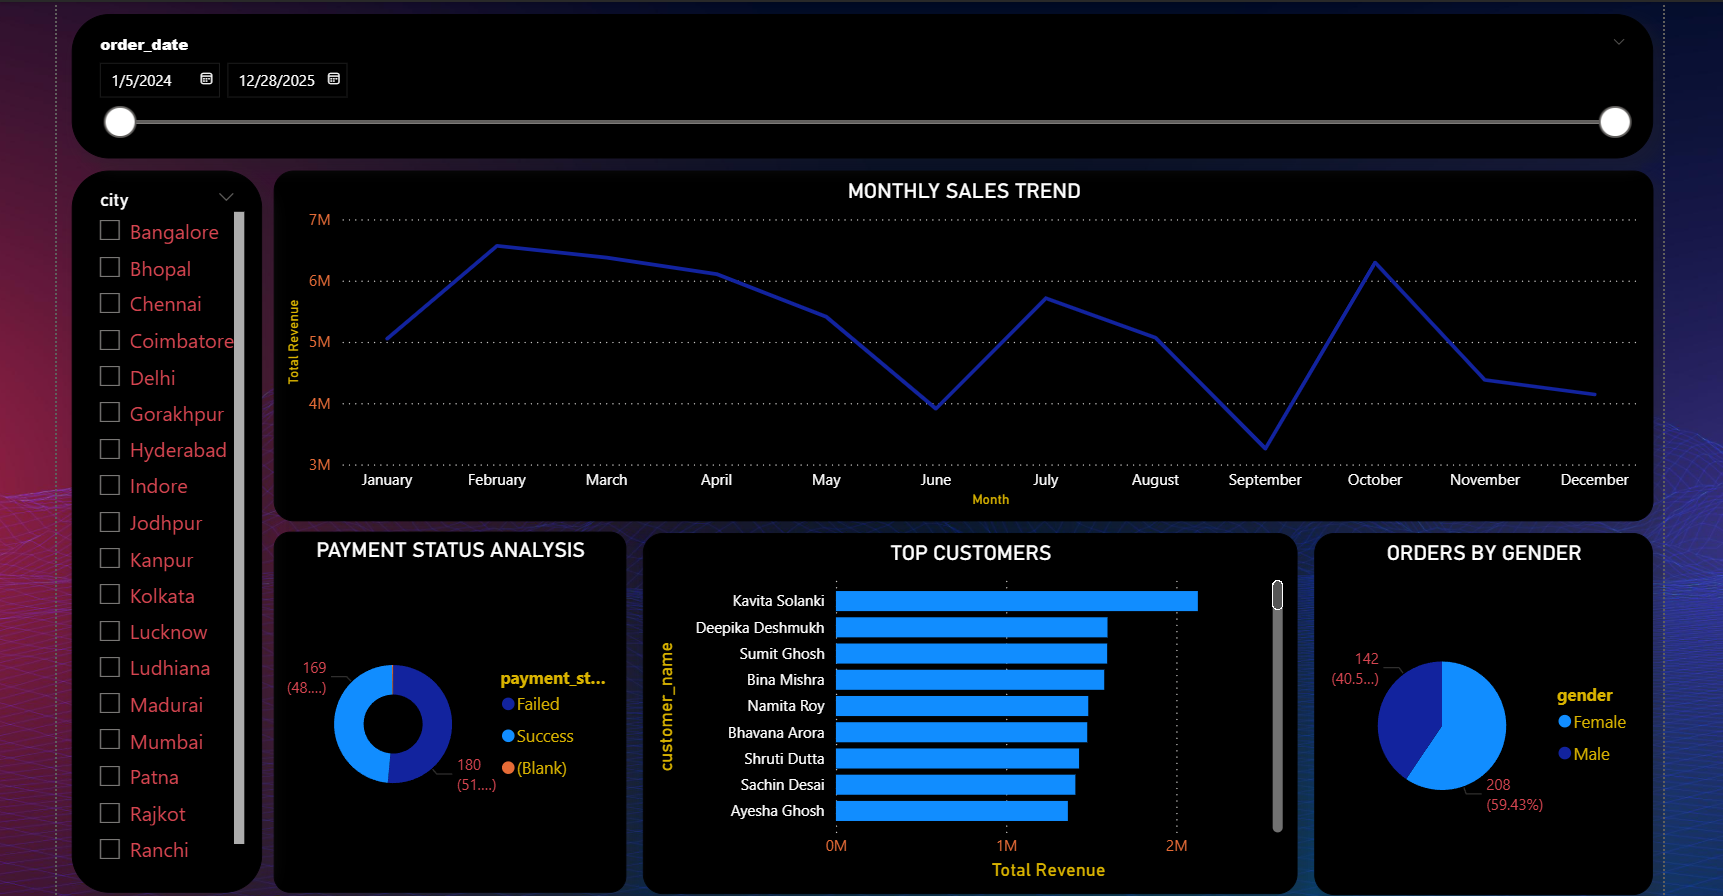

The dashboard page shown, as its layout file describes it:
{"tool":"powerbi","page":{"name":"Page 1","canvas":[1280,720],"ordinal":0},"visuals":[{"type":"lineChart","title":"MONTHLY SALES TREND","fields":{"Category":["orders.order_date.Variation.Date Hierarchy.Month"],"Y":["orders.Total Revenue"]},"box":[172.7,134.7,1099.5,279.8],"z":0},{"type":"clusteredBarChart","title":"TOP CUSTOMERS","fields":{"Category":["customers.customer_name"],"Y":["orders.Total Revenue"]},"box":[466.6,423.1,521.6,287.6],"z":1000},{"type":"pieChart","title":"PAYMENT STATUS ANALYSIS","fields":{"Category":["payments.payment_status"],"Y":["orders.Total Orders"]},"box":[172.7,422.5,280.9,287.8],"z":2000},{"type":"slicer","fields":{"Values":["customers.city"]},"box":[11.5,134.7,152,575.7],"z":3000},{"type":"slicer","fields":{"Values":["orders.order_date"]},"box":[11.5,9.2,1260.7,115.1],"z":4000},{"type":"pieChart","title":"ORDERS BY GENDER","fields":{"Y":["orders.Total Orders"],"Category":["customers.gender"]},"box":[1002.3,423.1,269.7,288.9],"z":5000}]}

Visuals, with their boxes on the page's 1280x720 design canvas (x1, y1, x2, y2). These are canvas units, not pixel positions in the 1723x896 screenshot, which may show the page scaled, cropped or inside an application window:
"MONTHLY SALES TREND" lineChart: detection(173, 135, 1272, 414)
"TOP CUSTOMERS" clusteredBarChart: detection(467, 423, 988, 711)
"PAYMENT STATUS ANALYSIS" pieChart: detection(173, 422, 454, 710)
slicer - customers.city: detection(12, 135, 164, 710)
slicer - orders.order_date: detection(12, 9, 1272, 124)
"ORDERS BY GENDER" pieChart: detection(1002, 423, 1272, 712)
